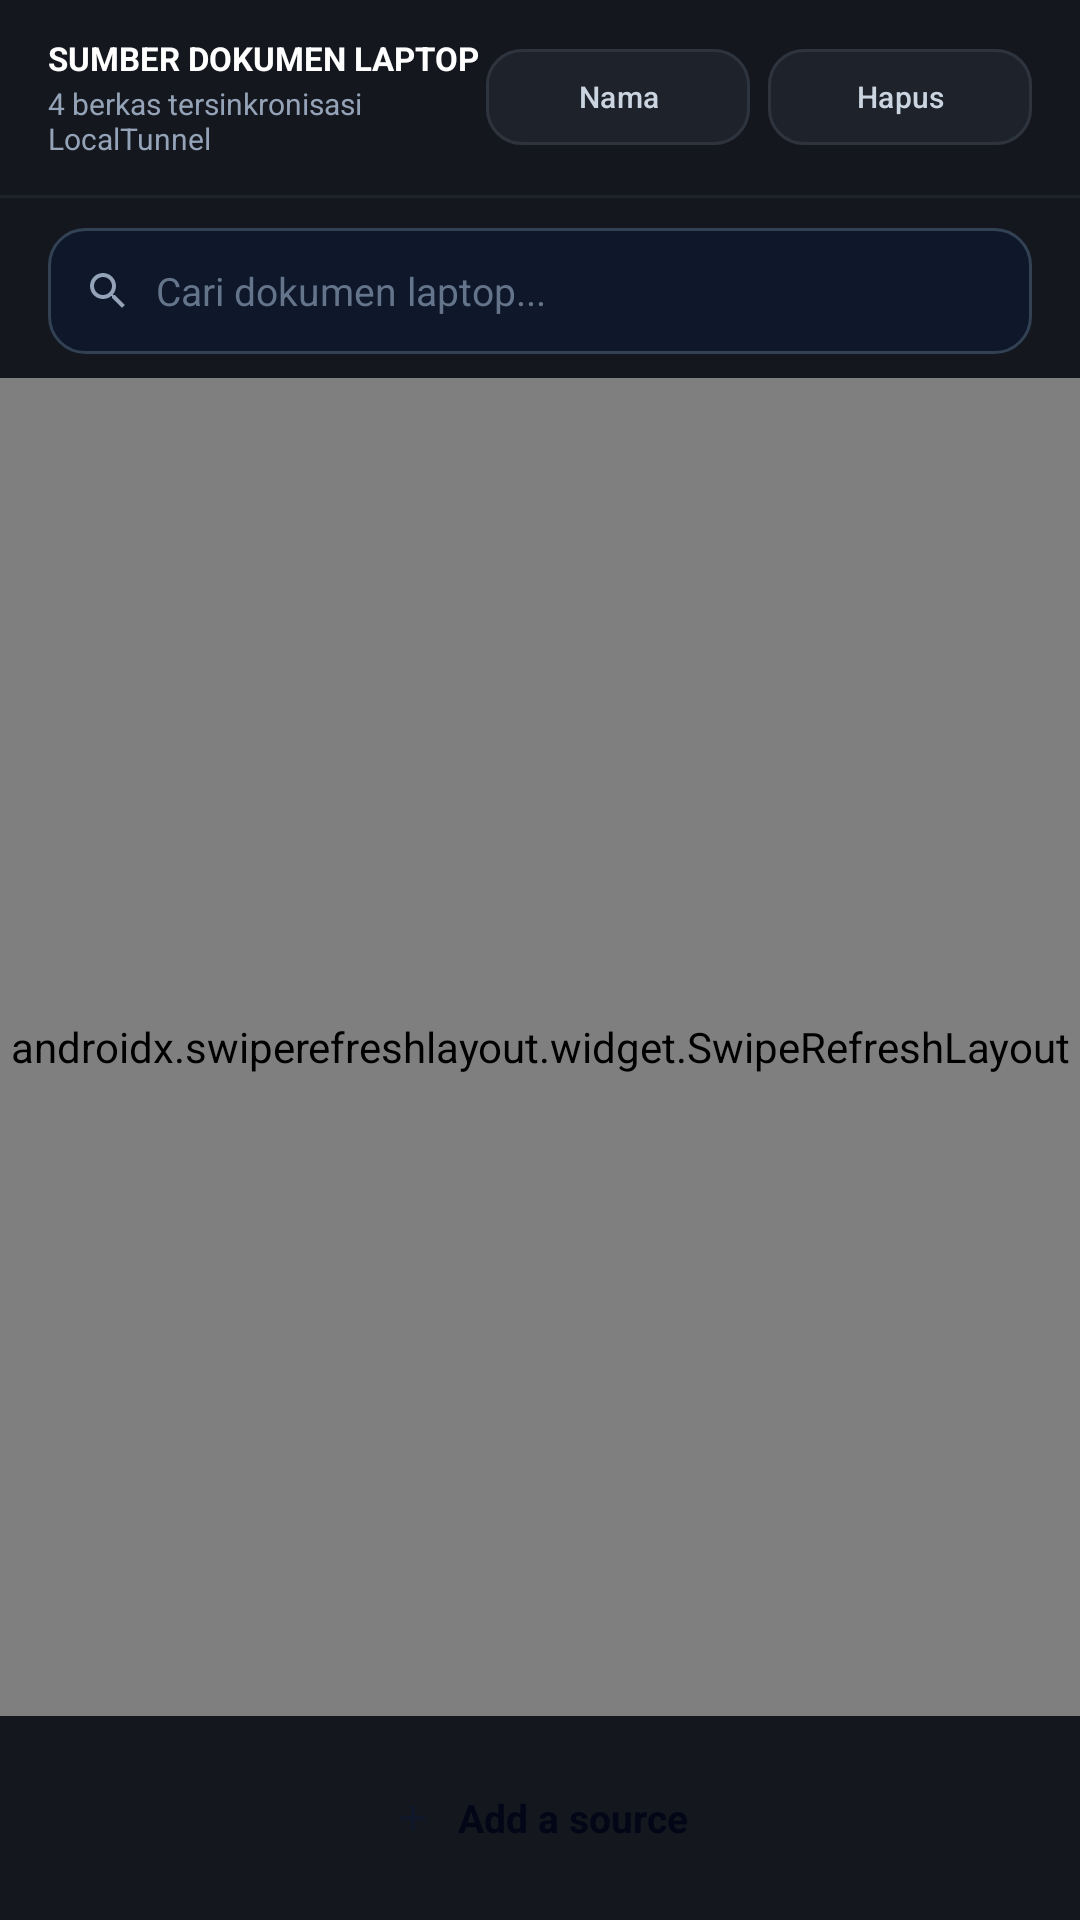

Screen size 1080px×1920px. Icon name, then its box in pixels as (x1, y1, x2, y2):
Search Icon: (90, 273, 125, 308)
